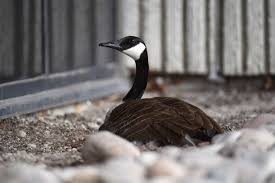goose: (96, 35, 227, 149)
